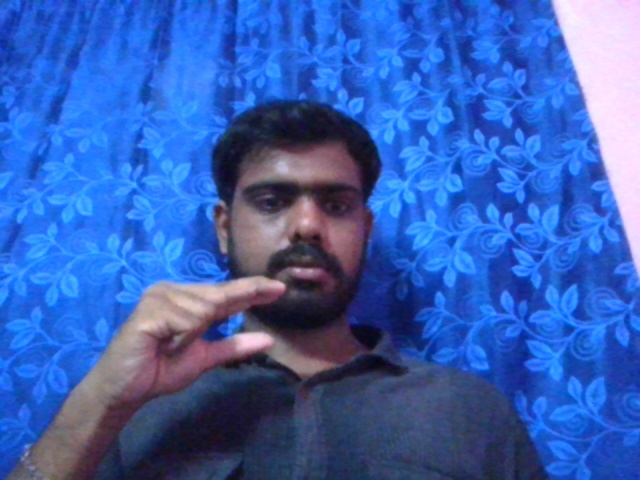No: (85, 271, 287, 397)
